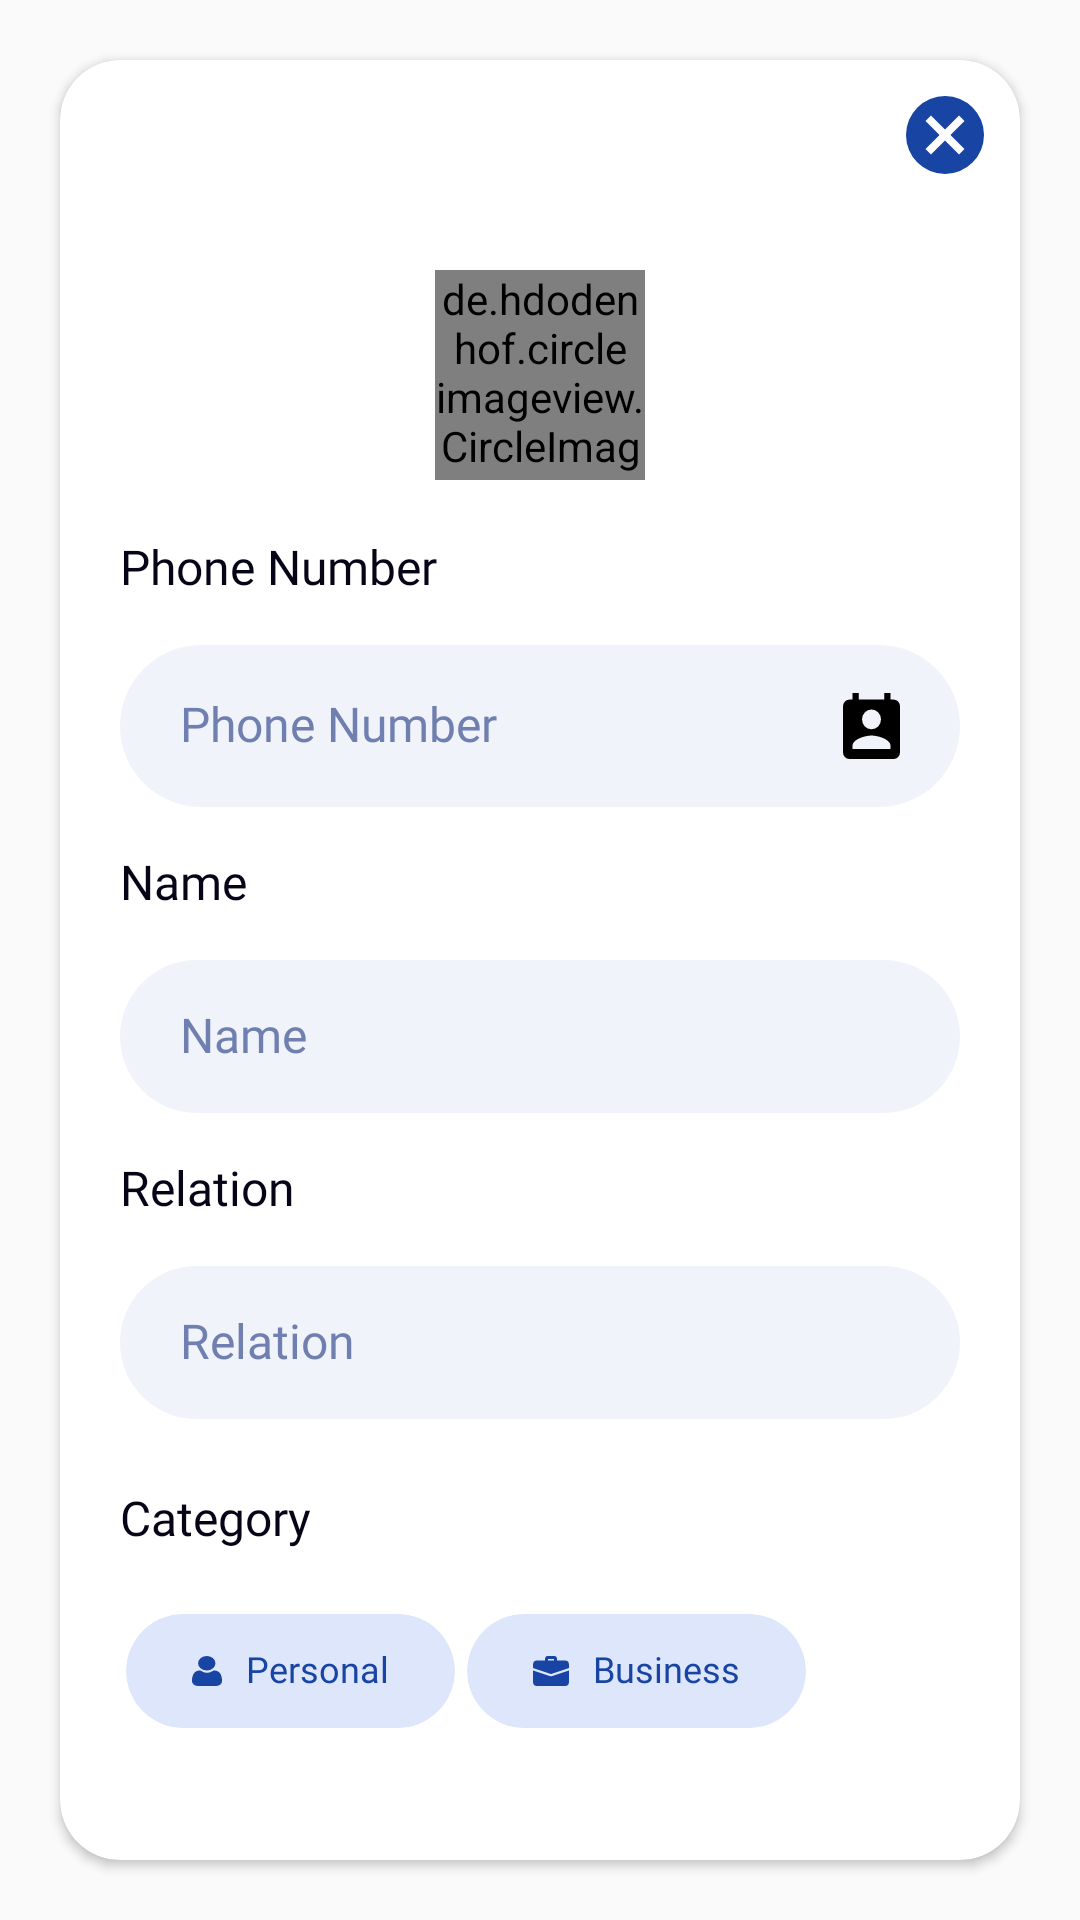

Named icons in this screenshot (1080*1920) and their centers, (x=x, y=y):
close dialog: (x=946, y=117)
